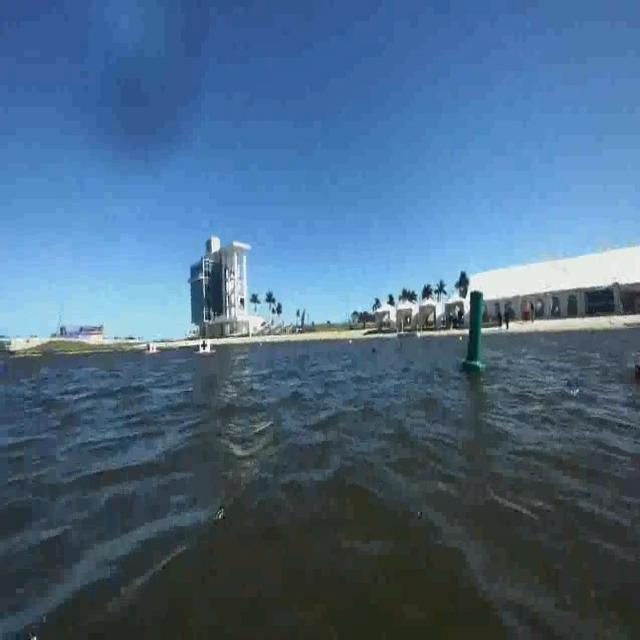green-column-buoy: (462, 290, 487, 373)
